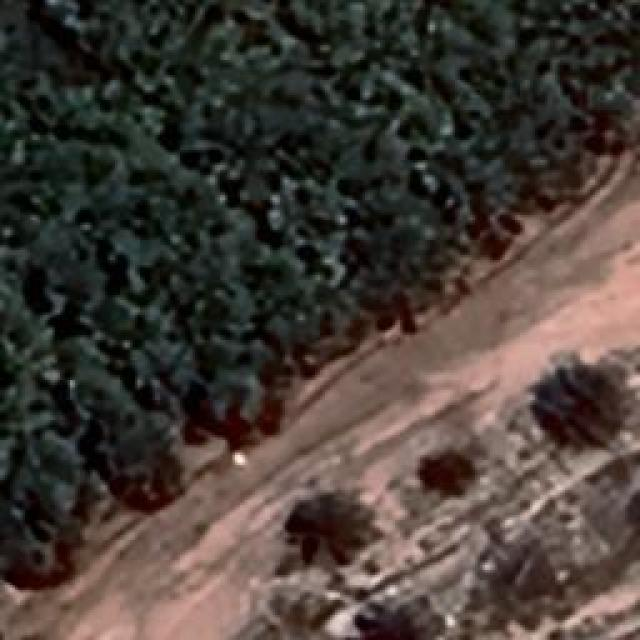PalmTree: (282, 484, 362, 558), (545, 364, 613, 446), (424, 450, 472, 505), (362, 600, 416, 640)
